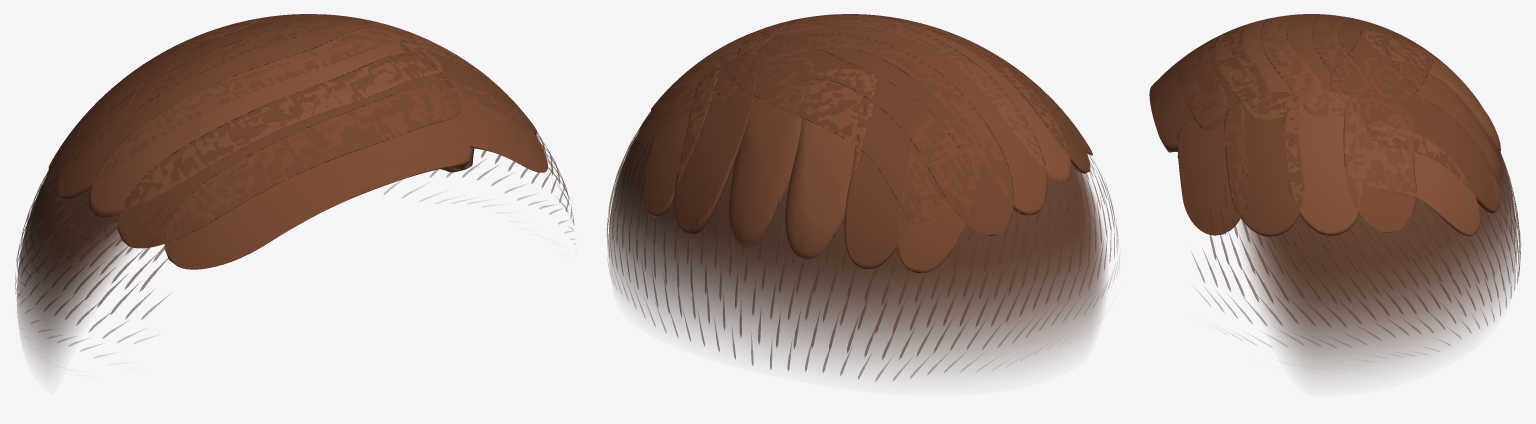
Rendered from Masculine-hair264.glb.
The picture shows the model from 3 angles, left to right: view 1: azimuth 30°, elevation 25°; view 2: azimuth 150°, elevation 25°; view 3: azimuth 270°, elevation 25°; orthographic projection. The views are drawn at different scales.
Parts seen in each view (by area): view 1: 226 hair / Hair258 / sculpted side sweep 1, 226 hair / Hair258 / sculpted side sweep 0, 226 hair / Hair258 / sculpted side sweep 2, 226 hair / Hair258 / smooth side fade, 226 hair / Hair259 / directional fade marks214; view 2: 226 hair / Hair258 / smooth side fade, 226 hair / Hair258 / sculpted side sweep 0, 226 hair / Hair258 / sculpted side sweep 1, 226 hair / Hair258 / sculpted side sweep 2, 226 hair / Hair259 / directional fade marks214; view 3: 226 hair / Hair258 / smooth side fade, 226 hair / Hair258 / sculpted side sweep 1, 226 hair / Hair258 / sculpted side sweep 0, 226 hair / Hair258 / sculpted side sweep 2, 226 hair / Hair259 / directional fade marks214.
Boxes of the visible parts, <box> form: 226 hair / Hair258 / sculpted side sweep 1: <box>48,14,547,269</box>; 226 hair / Hair258 / sculpted side sweep 0: <box>45,14,537,248</box>; 226 hair / Hair258 / sculpted side sweep 2: <box>88,18,499,217</box>; 226 hair / Hair258 / smooth side fade: <box>17,135,553,370</box>; 226 hair / Hair259 / directional fade marks214: <box>15,113,574,357</box>; 226 hair / Hair258 / smooth side fade: <box>608,134,1106,375</box>; 226 hair / Hair258 / sculpted side sweep 0: <box>674,14,1090,269</box>; 226 hair / Hair258 / sculpted side sweep 1: <box>637,18,1092,273</box>; 226 hair / Hair258 / sculpted side sweep 2: <box>644,14,1071,258</box>; 226 hair / Hair259 / directional fade marks214: <box>606,116,1119,381</box>; 226 hair / Hair258 / smooth side fade: <box>1239,129,1516,378</box>; 226 hair / Hair258 / sculpted side sweep 1: <box>1149,14,1501,235</box>; 226 hair / Hair258 / sculpted side sweep 0: <box>1177,14,1499,236</box>; 226 hair / Hair258 / sculpted side sweep 2: <box>1215,14,1500,236</box>; 226 hair / Hair259 / directional fade marks214: <box>1192,142,1521,354</box>.
Size of the model in its own units: 0.9743 by 0.584 by 0.7277.
